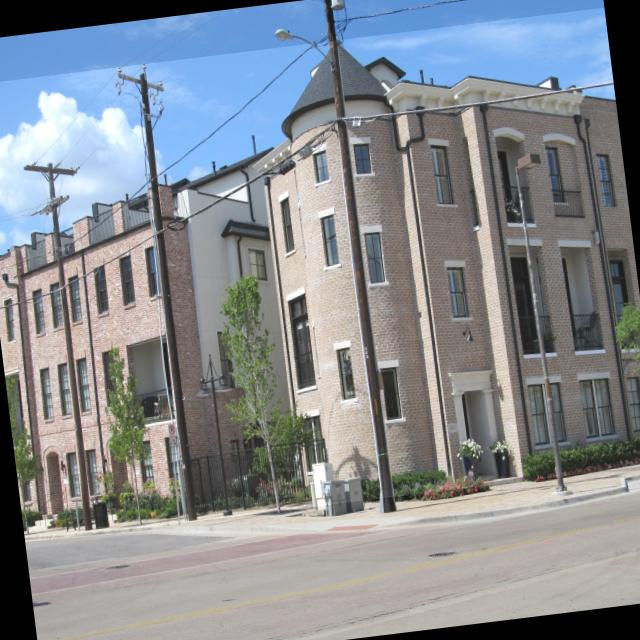House: (0, 7, 640, 542)
